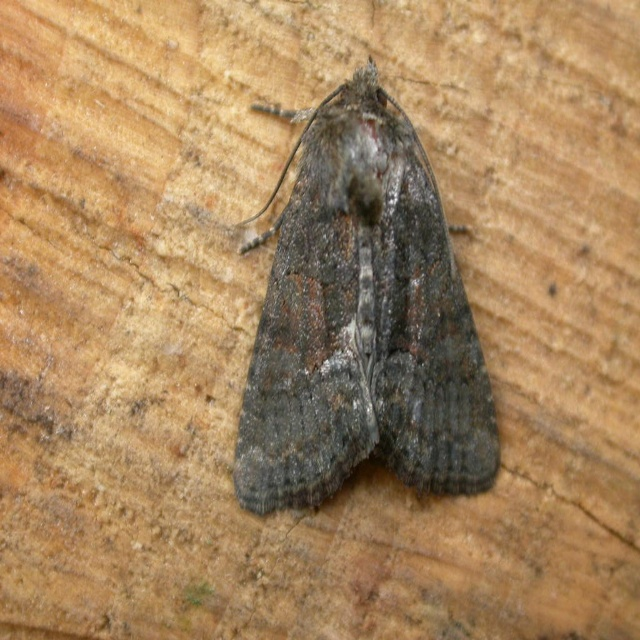Moths and butterflies: (226, 49, 505, 519)
